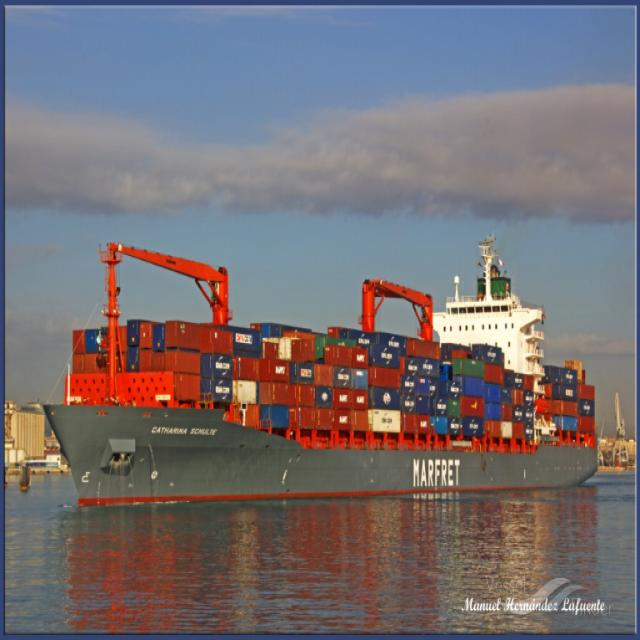Container Ship: (50, 268, 598, 496)
